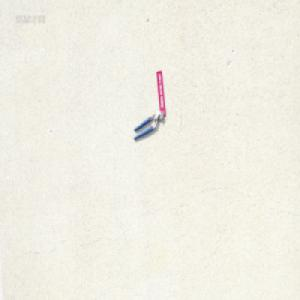Label: (155, 71, 166, 119)
Pliers: (133, 111, 164, 143)
